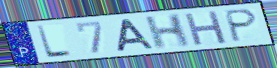7: (73, 20, 106, 56)
A: (115, 18, 156, 53)
H: (143, 12, 191, 51), (183, 9, 229, 48)
L: (35, 24, 75, 59)
P: (225, 8, 260, 44)
